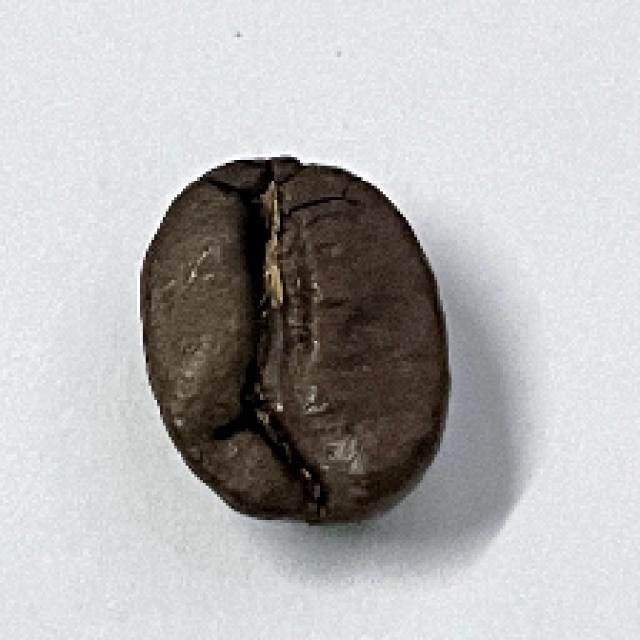bean: (133, 151, 456, 529)
